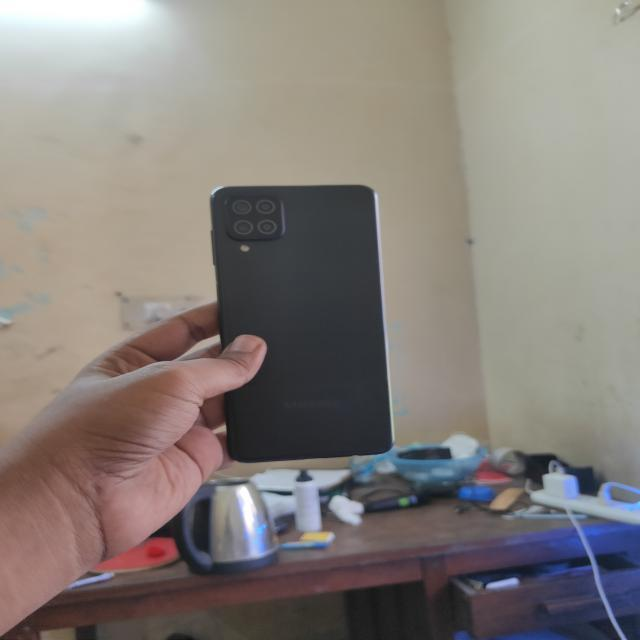Phone: (206, 181, 398, 462)
